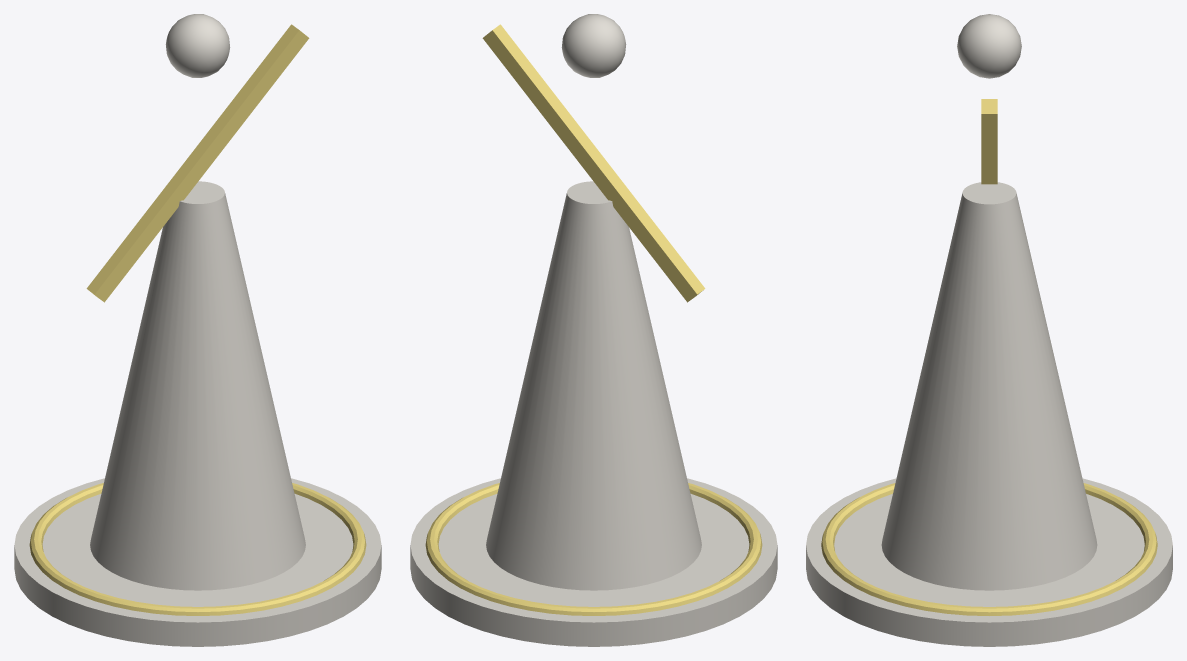
Rendered from ArteModerno_Alfil.fbx.
The picture shows the model from 3 angles, left to right: view 1: azimuth 30°, elevation 25°; view 2: azimuth 150°, elevation 25°; view 3: azimuth 270°, elevation 25°; orthographic projection.
Parts seen in each view (by area): view 1: ArteModerno_Alfil; view 2: ArteModerno_Alfil; view 3: ArteModerno_Alfil.
Part boxes in pixels (x1=…): ArteModerno_Alfil: x1=14, y1=14, x2=381, y2=646; ArteModerno_Alfil: x1=410, y1=14, x2=777, y2=646; ArteModerno_Alfil: x1=806, y1=14, x2=1172, y2=646.
Size of the model in its own units: 0.68 by 1.13 by 0.68.
